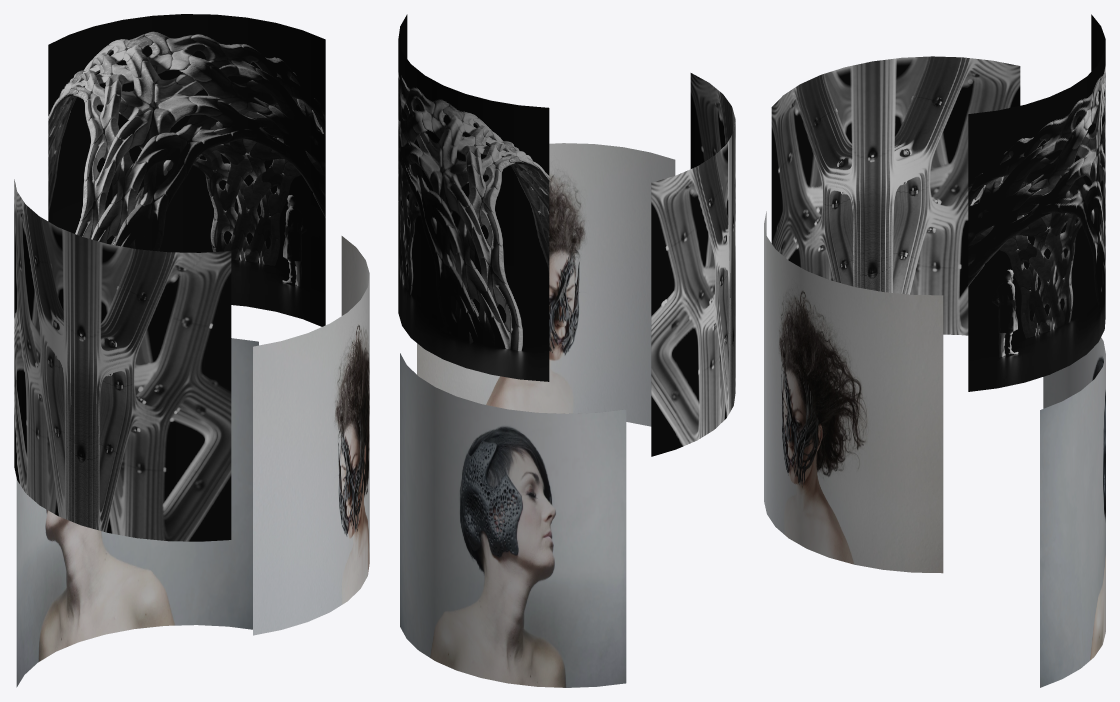
File: garment-a.glb
3 renders of one model, left to right at view 1: azimuth 30°, elevation 25°; view 2: azimuth 150°, elevation 25°; view 3: azimuth 270°, elevation 25°, orthographic. The views are drawn at different scales.
Visible parts, largest first — view 1: 02_AlessandroGallery; view 2: 02_AlessandroGallery; view 3: 02_AlessandroGallery.
Part boxes in pixels (left/top/right/bottom): 02_AlessandroGallery: left=14, top=14, right=369, bottom=687; 02_AlessandroGallery: left=398, top=14, right=735, bottom=687; 02_AlessandroGallery: left=764, top=14, right=1105, bottom=687.
Size of the model in its own units: 3.48 by 6.61 by 3.49.
4 materials, 4 textured.
